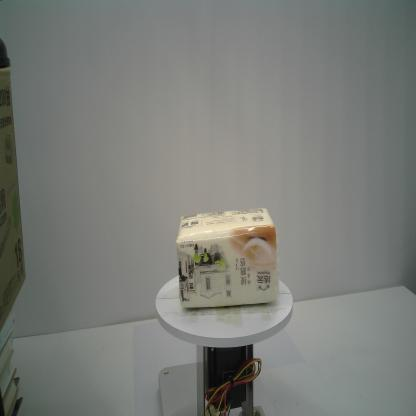Tissue: (175, 206, 279, 310)
